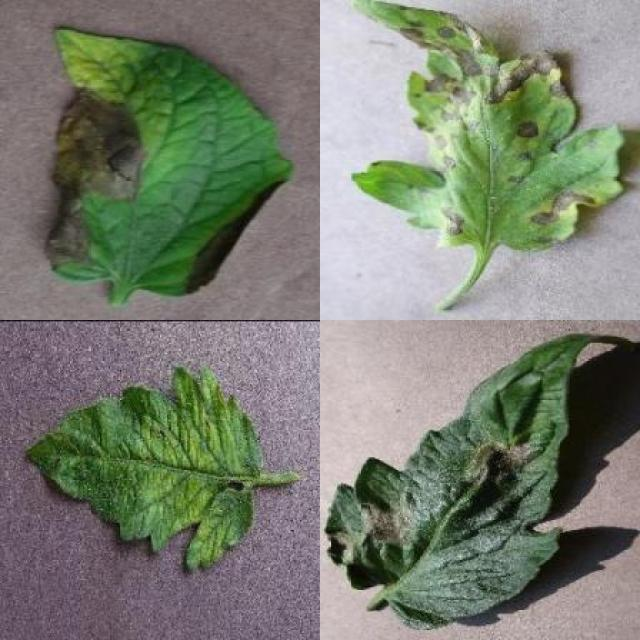Early Blight: (346, 0, 627, 256), (42, 26, 294, 297)
Late Blight: (326, 331, 593, 633)
Mosaic Virus: (23, 364, 260, 574)
